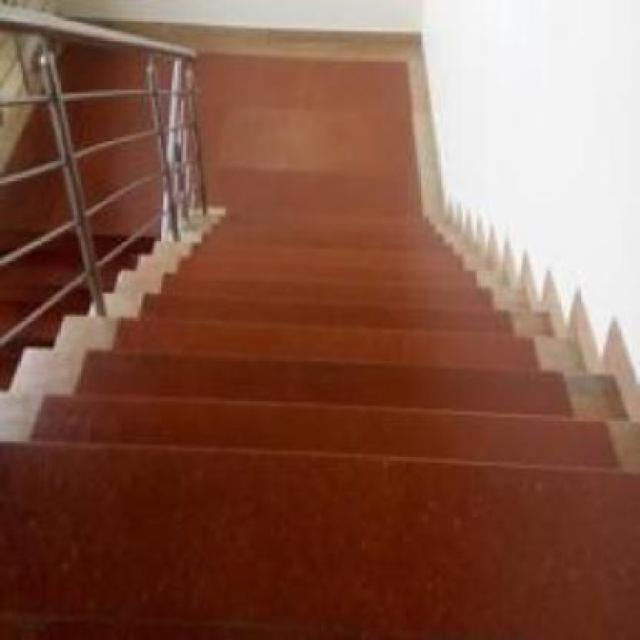stair: (26, 180, 640, 502)
